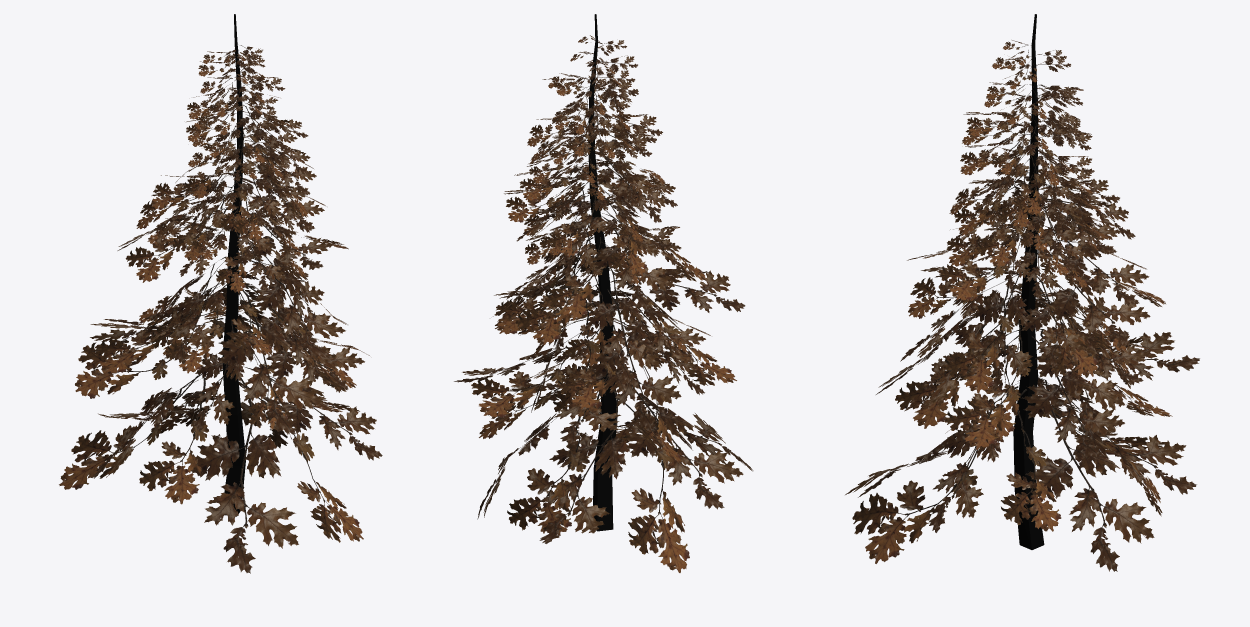
The model's file is spruce3 lod0.FBX.
3 renders of one model, left to right at view 1: azimuth 30°, elevation 25°; view 2: azimuth 150°, elevation 25°; view 3: azimuth 270°, elevation 25°, orthographic. The views are drawn at different scales.
Parts seen in each view (by area): view 1: spruce3; view 2: spruce3; view 3: spruce3.
Part boxes in pixels (left/top/right/bottom): spruce3: left=59, top=14, right=382, bottom=573; spruce3: left=454, top=14, right=753, bottom=572; spruce3: left=845, top=14, right=1199, bottom=571.
Size of the model in its own units: 59037 by 97928 by 68053.
